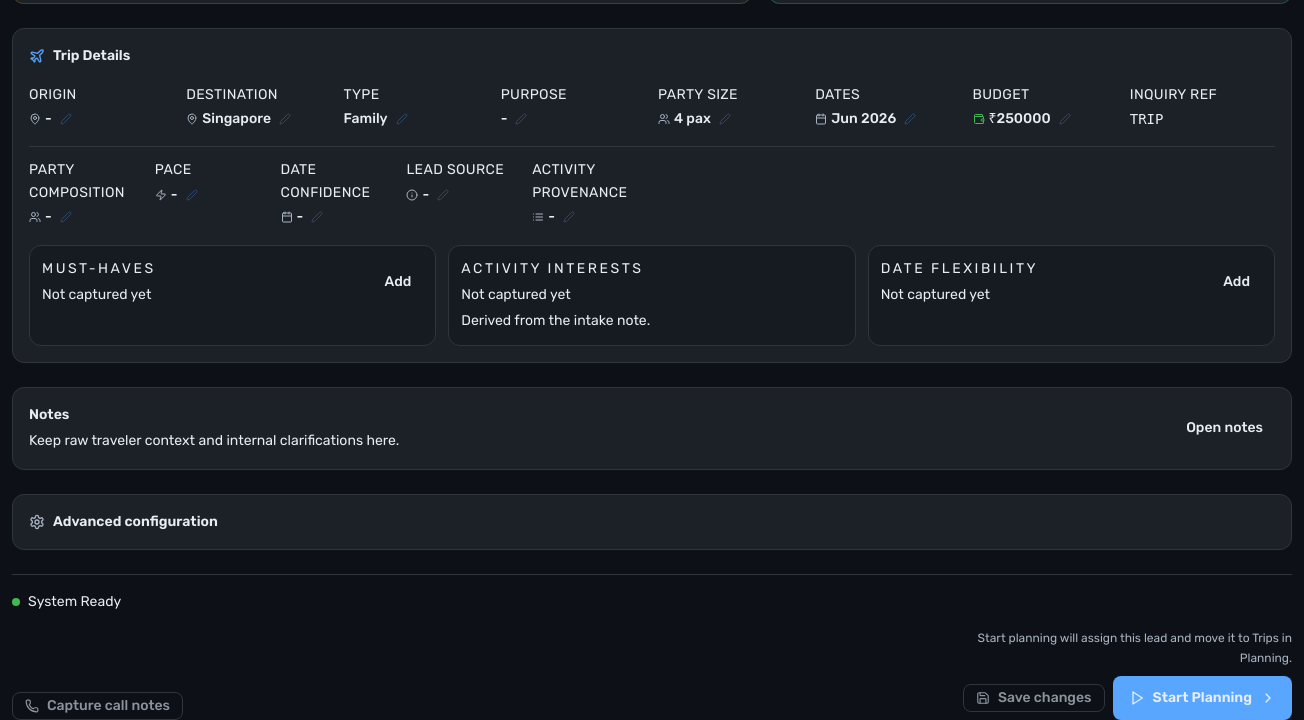
Test: P2 Owner Onboarding Journey: Junior Quote → Coaching Warnings → Owner Decision › Step 1: IntakePanel renders with junior agent's trip data
(page scrolled)
Click the button "Open notes": (1225, 428) [1174,414,1275,442]
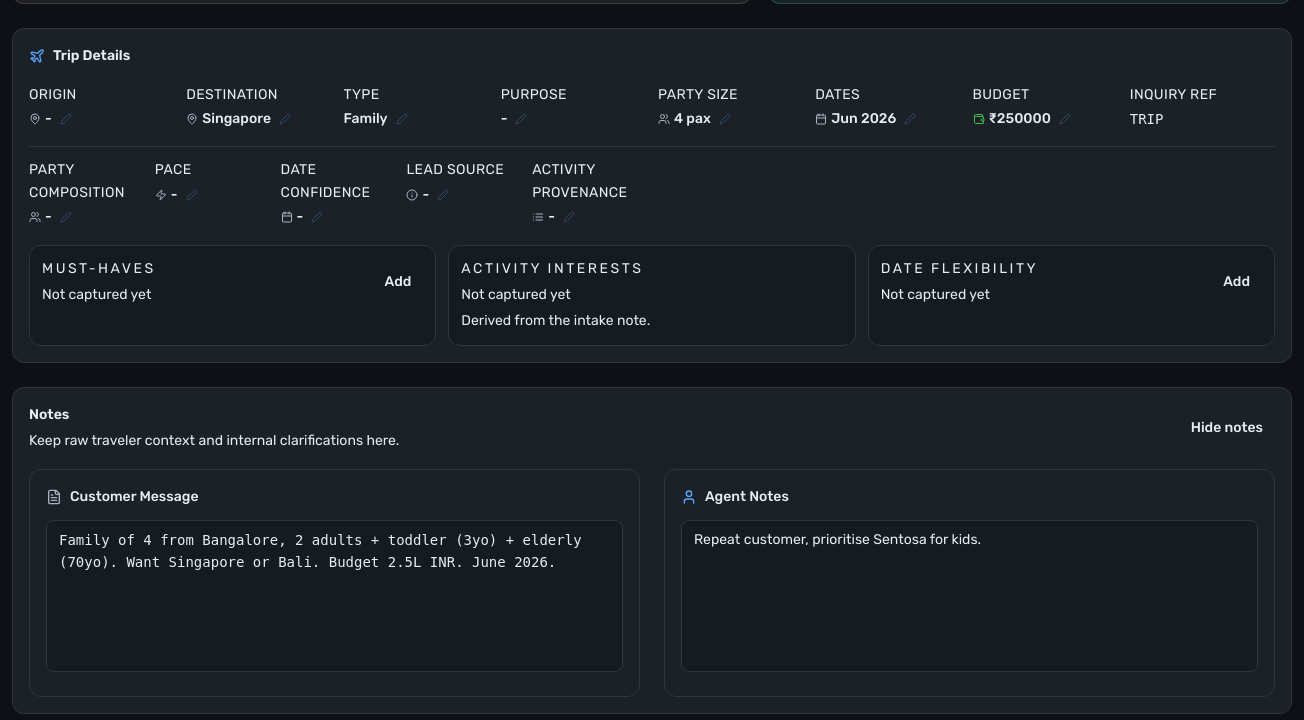
Expected: the text "Singapore" is shown, [186,110,291,127]
Result: the text box showing "Family of 4 from Bangalore" is shown at [46,520,623,672]
